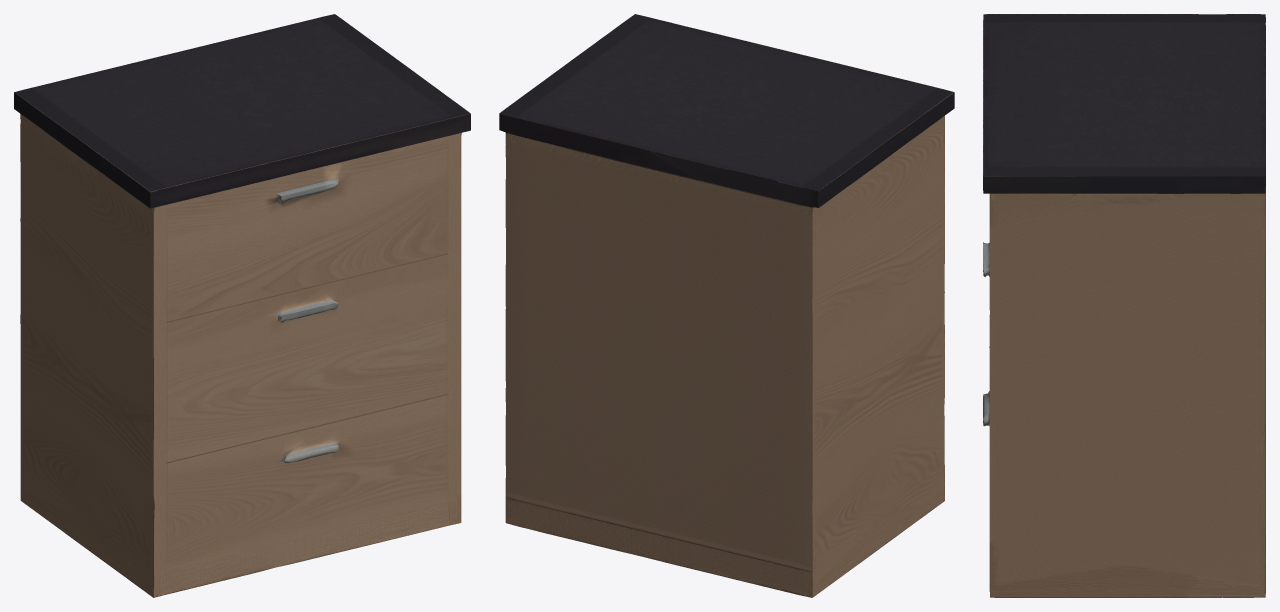
Rendered from 05-drawer-stack.glb.
3 views of the same model, side by side, from view 1: azimuth 30°, elevation 25°; view 2: azimuth 150°, elevation 25°; view 3: azimuth 270°, elevation 25° (orthographic). The views are drawn at different scales.
Visible parts, largest first — view 1: Mesh_0; view 2: Mesh_0; view 3: Mesh_0.
Boxes of the visible parts, left/top/right/bottom form: Mesh_0: left=14, top=14, right=470, bottom=597; Mesh_0: left=499, top=14, right=954, bottom=597; Mesh_0: left=983, top=14, right=1265, bottom=597.
Bounding box in the file's own units: 1.55 × 1.9 × 1.14.
1 material, 1 textured.
